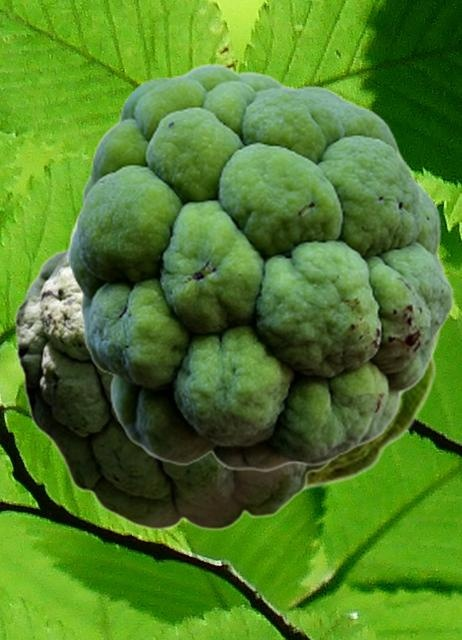atis: (67, 62, 453, 472), (68, 206, 440, 492), (13, 244, 332, 530)
